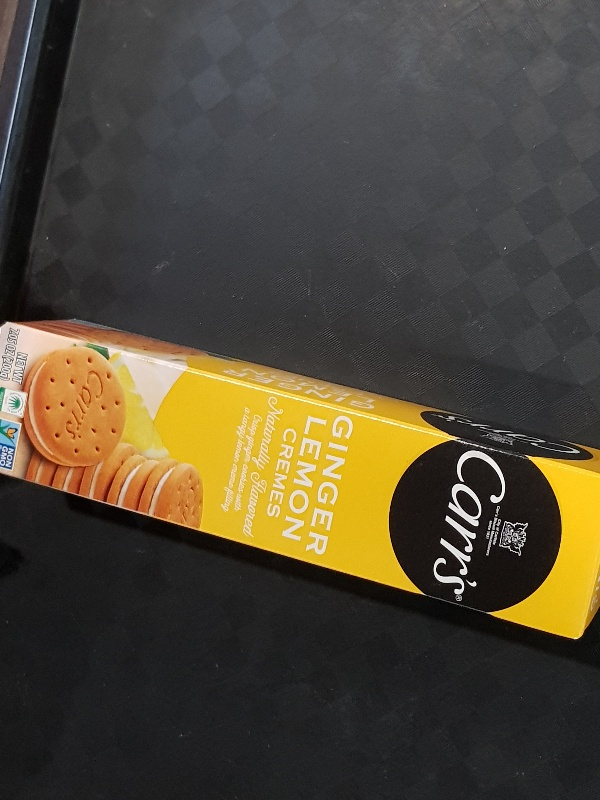Carr's Ginger Lemon Cremes: (1, 311, 600, 643)
